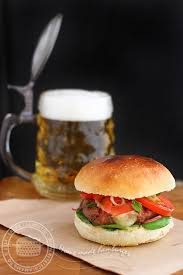hamburger: (70, 153, 178, 249)
